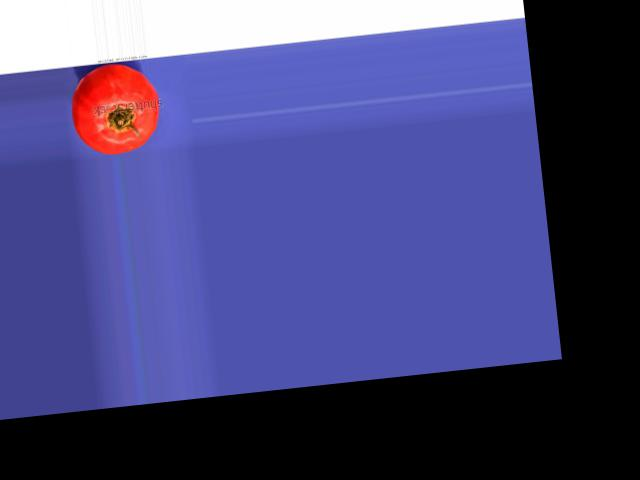tomato: (66, 61, 163, 158)
